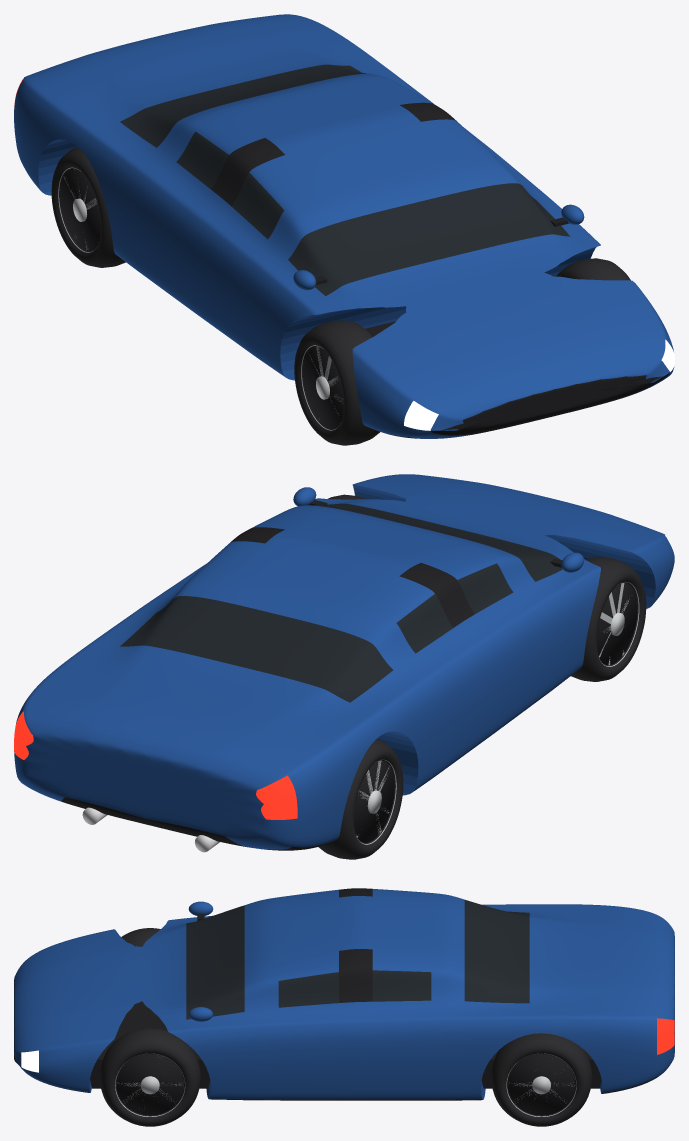
File: car_northstar_gp.glb
3 views of the same model, one above another, from view 1: azimuth 30°, elevation 25°; view 2: azimuth 150°, elevation 25°; view 3: azimuth 270°, elevation 25° (orthographic). The views are drawn at different scales.
Visible parts, largest first — view 1: Body, WheelMesh_Wheel_Front_R, WheelMesh_Wheel_Rear_R, WheelMesh_Wheel_Front_L; view 2: Body, WheelMesh_Wheel_Front_R, WheelMesh_Wheel_Rear_R; view 3: Body, WheelMesh_Wheel_Front_L, WheelMesh_Wheel_Rear_L, WheelMesh_Wheel_Front_R.
Part boxes in pixels (left/top/right/bottom): Body: left=14, top=14, right=674, bottom=438; WheelMesh_Wheel_Front_R: left=294, top=320, right=379, bottom=445; WheelMesh_Wheel_Rear_R: left=51, top=147, right=125, bottom=267; WheelMesh_Wheel_Front_L: left=556, top=258, right=630, bottom=280; Body: left=14, top=474, right=674, bottom=852; WheelMesh_Wheel_Front_R: left=571, top=556, right=646, bottom=681; WheelMesh_Wheel_Rear_R: left=318, top=739, right=403, bottom=859; Body: left=14, top=888, right=674, bottom=1100; WheelMesh_Wheel_Front_L: left=99, top=1028, right=200, bottom=1126; WheelMesh_Wheel_Rear_L: left=491, top=1033, right=592, bottom=1126; WheelMesh_Wheel_Front_R: left=121, top=928, right=160, bottom=946.
Size of the model in its own units: 1.99 by 1.16 by 4.56.
